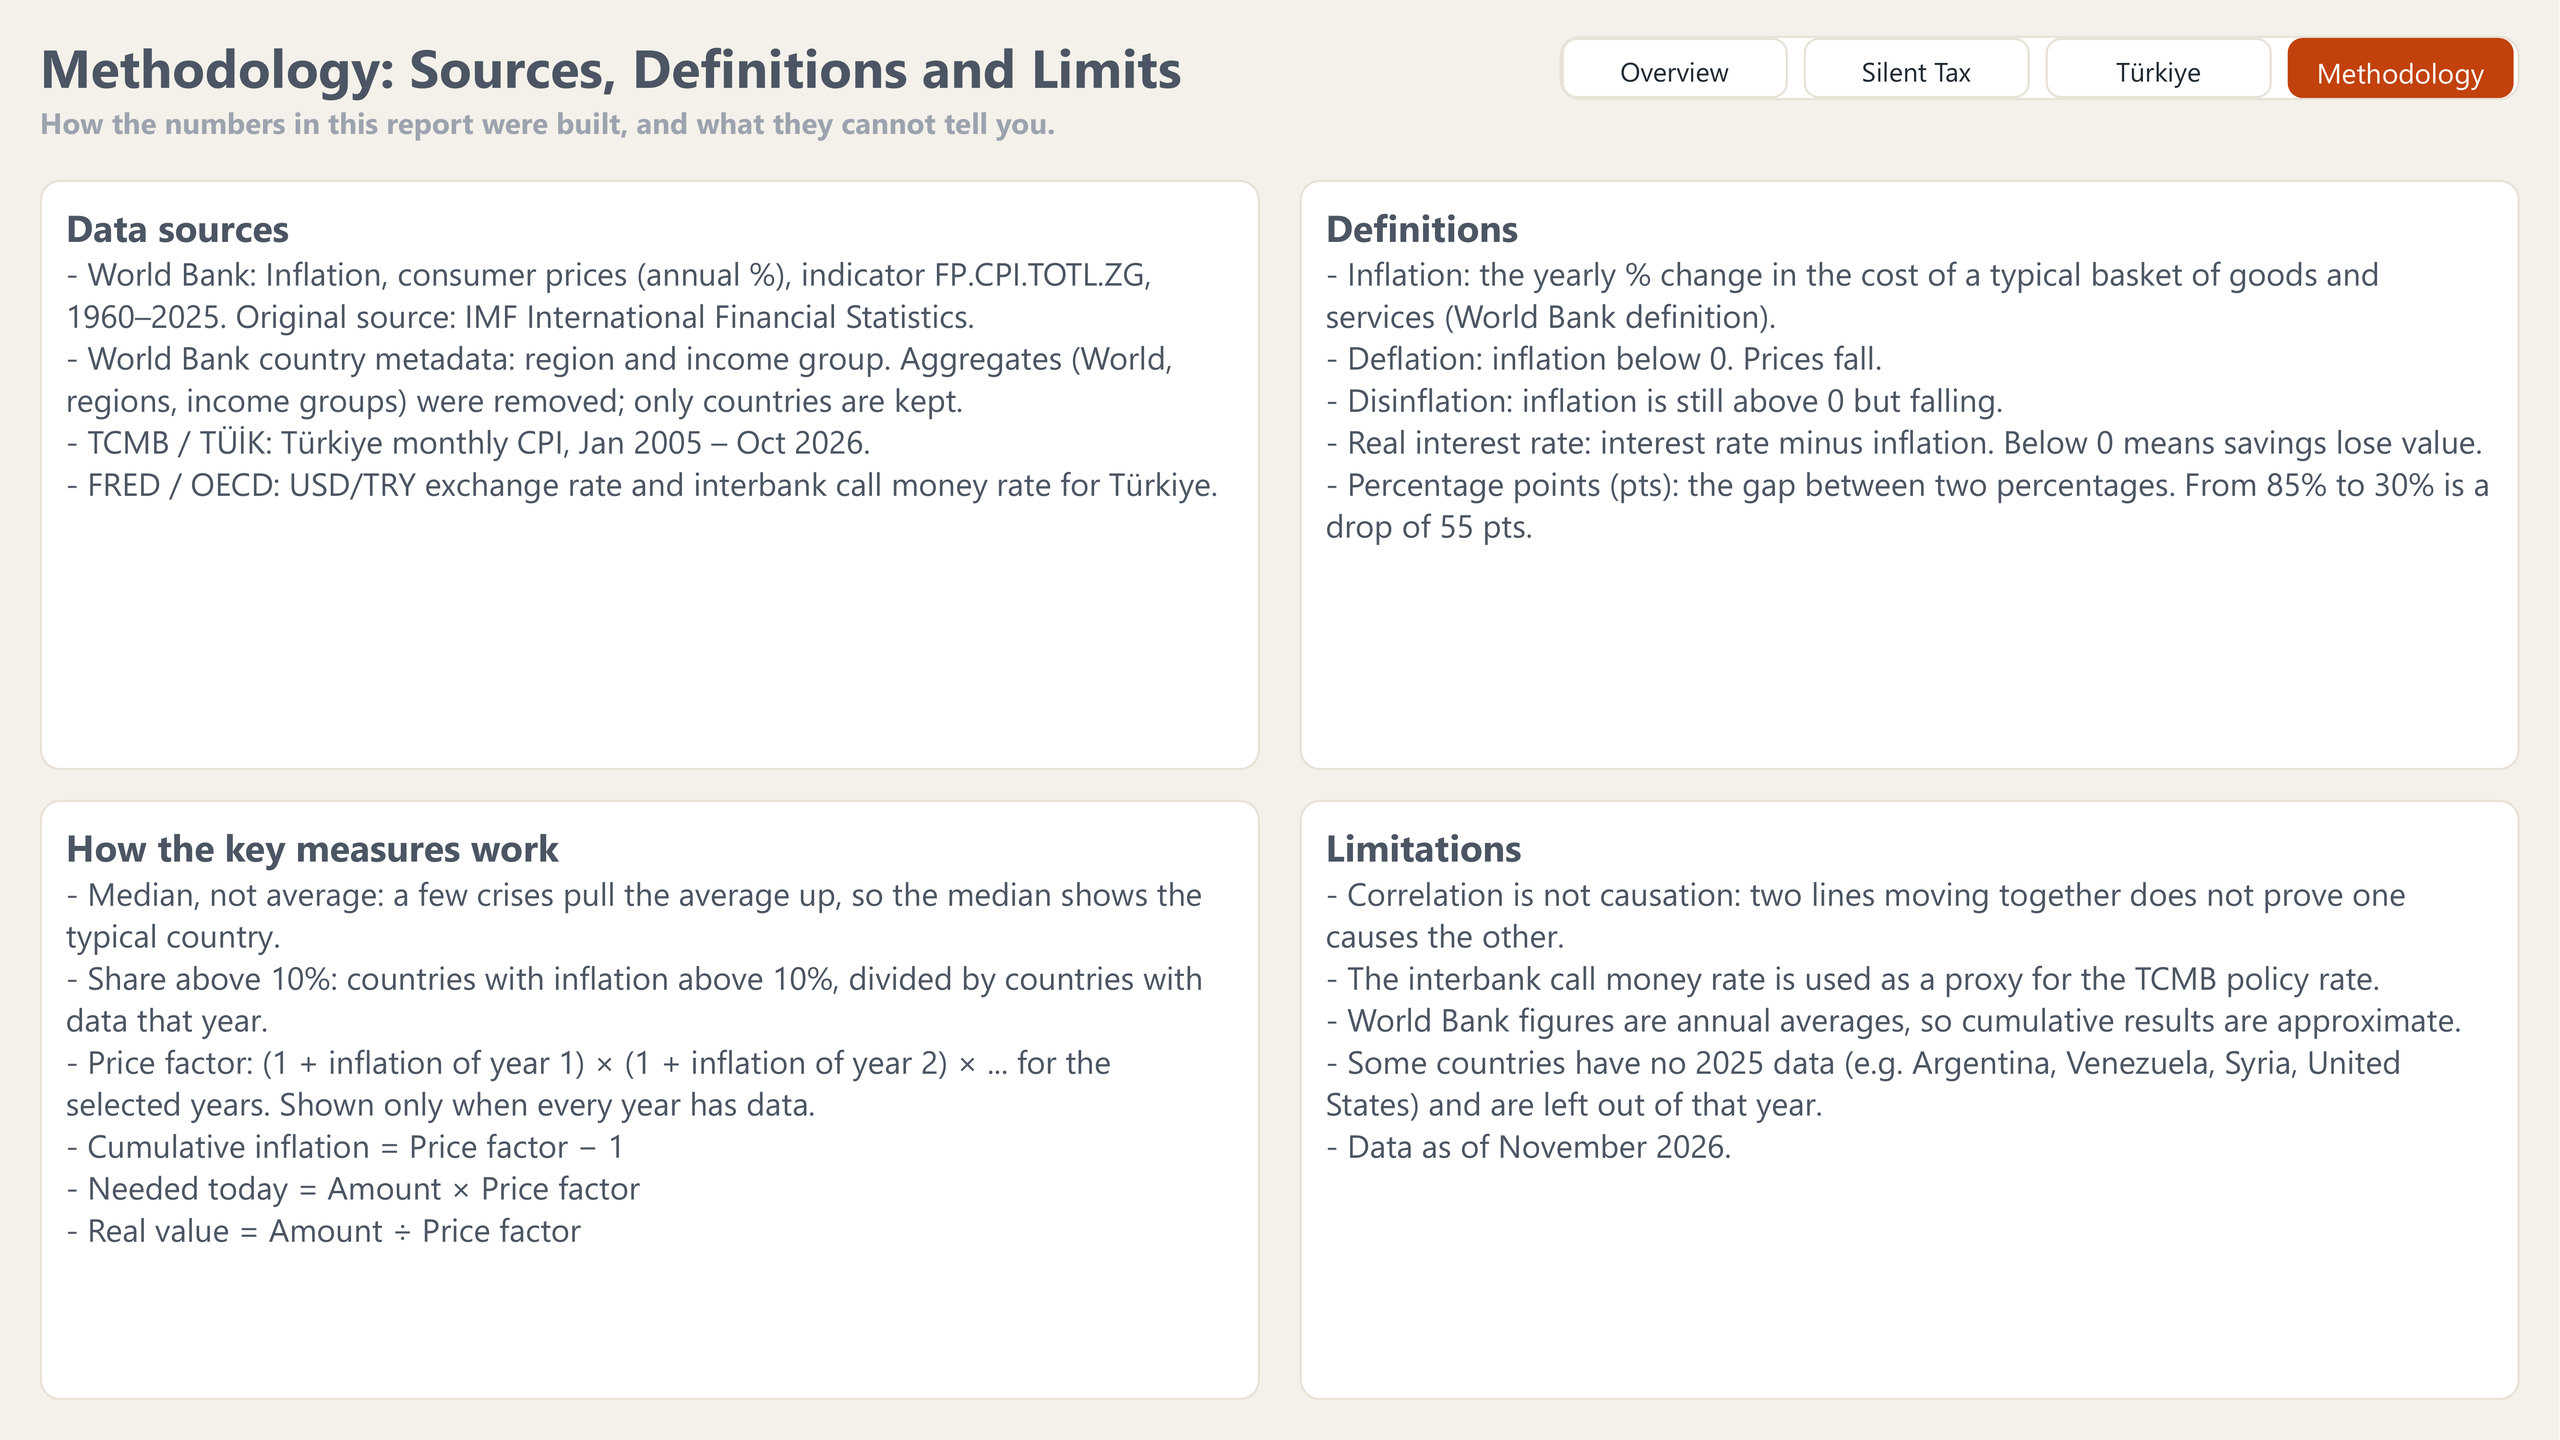

The page's visual inventory and layout, read from the dashboard file:
{"tool":"powerbi","page":{"name":"Methodology","canvas":[1280,720],"ordinal":3},"visuals":[{"type":"textbox","box":[20,15,1240,60],"z":0},{"type":"textbox","box":[20.4,90,610,295],"z":1000},{"type":"textbox","box":[20,400,610,300],"z":2000},{"type":"textbox","box":[650,400,610,300],"z":3000},{"type":"textbox","box":[650,90,610,295],"z":4000},{"type":"pageNavigator","box":[780,18,480,32],"z":4001}]}

Visuals, with their boxes in screenshot pixels (x1, y1, x2, y2), scaled from the page's 1280x720 canvas onto the 2560x1440 screenshot:
textbox: (40,30,2520,150)
textbox: (41,180,1261,770)
textbox: (40,800,1260,1400)
textbox: (1300,800,2520,1400)
textbox: (1300,180,2520,770)
pageNavigator: (1560,36,2520,100)
